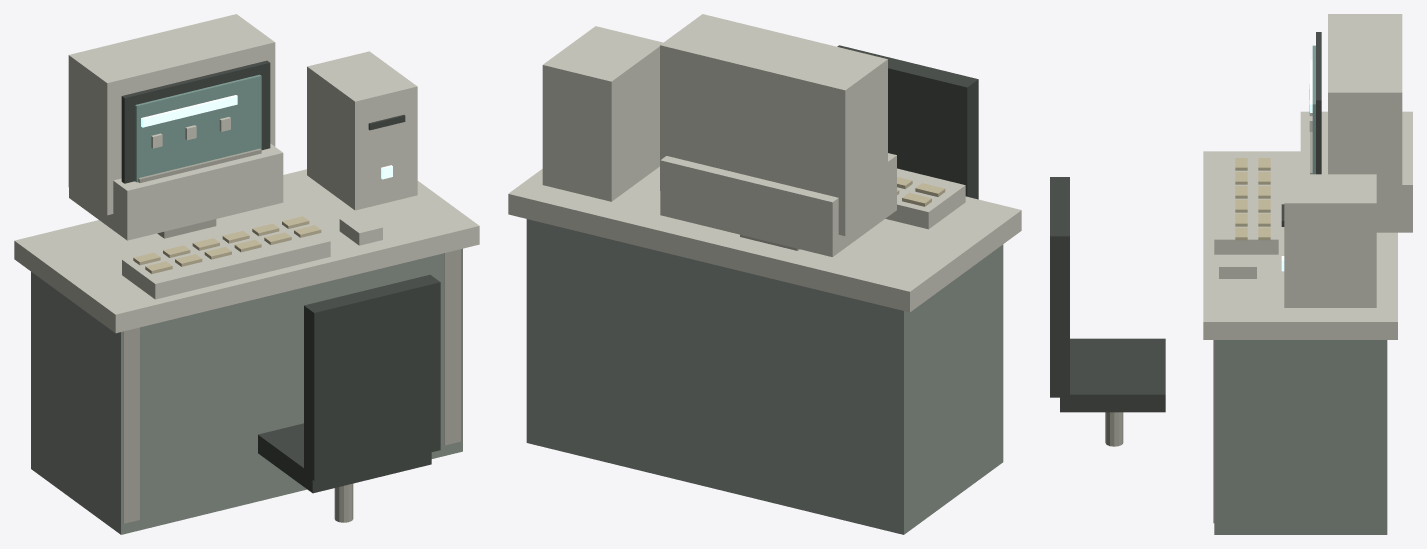
The model's file is shelter_computer_station.glb.
3 views of the same model, side by side, from view 1: azimuth 30°, elevation 25°; view 2: azimuth 150°, elevation 25°; view 3: azimuth 270°, elevation 25° (orthographic). The views are drawn at different scales.
Visible parts, largest first — view 1: WALL_computer desk, desk top, chair back, CRT display shell, tower case, CRT lower shell, desktop screen, keyboard base, CRT bezel, chair seat, desk edge, desk edge.001 (+4 smaller); view 2: WALL_computer desk, CRT display shell, desk top, tower case, CRT lower shell, chair back, keyboard base; view 3: WALL_computer desk, desk top, CRT display shell, tower case, chair seat, keyboard base, chair back, CRT lower shell, mouse, CRT bezel, chair stem, desktop screen.
Boxes of the visible parts, bbox=[...] form: WALL_computer desk: bbox=[31, 248, 462, 534]; desk top: bbox=[14, 169, 479, 333]; chair back: bbox=[304, 274, 440, 480]; CRT display shell: bbox=[68, 14, 275, 215]; tower case: bbox=[307, 51, 417, 210]; CRT lower shell: bbox=[69, 143, 283, 240]; desktop screen: bbox=[135, 74, 261, 182]; keyboard base: bbox=[122, 217, 330, 299]; CRT bezel: bbox=[121, 60, 270, 183]; chair seat: bbox=[258, 423, 431, 493]; desk edge: bbox=[123, 327, 139, 523]; desk edge.001: bbox=[444, 249, 460, 445]; WALL_computer desk: bbox=[526, 219, 1003, 534]; CRT display shell: bbox=[660, 14, 887, 236]; desk top: bbox=[508, 166, 1021, 312]; tower case: bbox=[542, 26, 662, 201]; CRT lower shell: bbox=[660, 153, 896, 256]; chair back: bbox=[837, 45, 978, 199]; keyboard base: bbox=[885, 168, 965, 229]; WALL_computer desk: bbox=[1214, 340, 1387, 534]; desk top: bbox=[1203, 151, 1397, 339]; CRT display shell: bbox=[1328, 14, 1402, 219]; tower case: bbox=[1284, 174, 1376, 307]; chair seat: bbox=[1060, 338, 1165, 412]; keyboard base: bbox=[1214, 157, 1278, 254]; chair back: bbox=[1050, 177, 1069, 397]; CRT lower shell: bbox=[1300, 111, 1412, 232]; mouse: bbox=[1219, 256, 1256, 278]; CRT bezel: bbox=[1316, 32, 1321, 174]; chair stem: bbox=[1105, 412, 1123, 446]; desktop screen: bbox=[1312, 45, 1315, 174].
Bounding box in the file's own units: 2.45 × 2.56 × 2.2.
